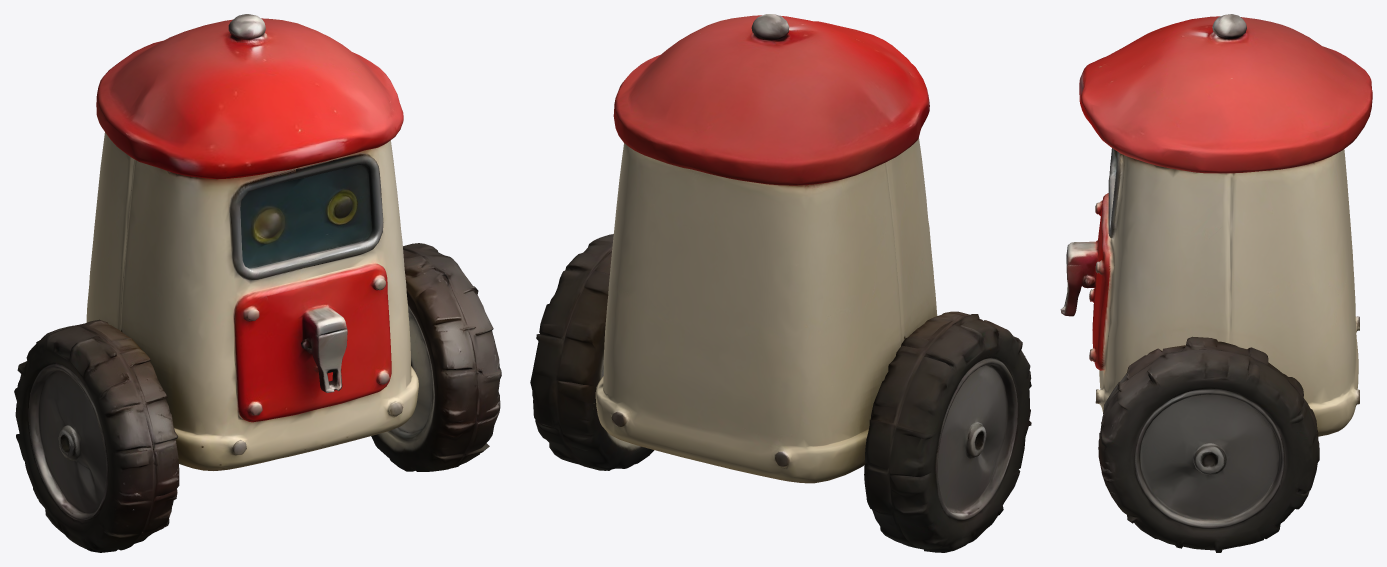
Rendered from guard.glb.
3 renders of one model, left to right at view 1: azimuth 30°, elevation 25°; view 2: azimuth 150°, elevation 25°; view 3: azimuth 270°, elevation 25°, orthographic. The views are drawn at different scales.
Parts seen in each view (by area): view 1: tripo_node_5ae09cb4-bcb8-4bc8-b0b0-68a84ff15975; view 2: tripo_node_5ae09cb4-bcb8-4bc8-b0b0-68a84ff15975; view 3: tripo_node_5ae09cb4-bcb8-4bc8-b0b0-68a84ff15975.
Boxes of the visible parts, box(x1,y1,x2,y2) form: tripo_node_5ae09cb4-bcb8-4bc8-b0b0-68a84ff15975: box(14, 14, 501, 552); tripo_node_5ae09cb4-bcb8-4bc8-b0b0-68a84ff15975: box(530, 14, 1031, 552); tripo_node_5ae09cb4-bcb8-4bc8-b0b0-68a84ff15975: box(1060, 14, 1372, 552).
Size of the model in its own units: 0.8468 by 1 by 0.623.
Materials: 1 (1 with a texture image).
